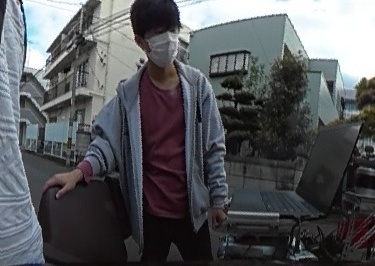person: (68, 0, 223, 266)
